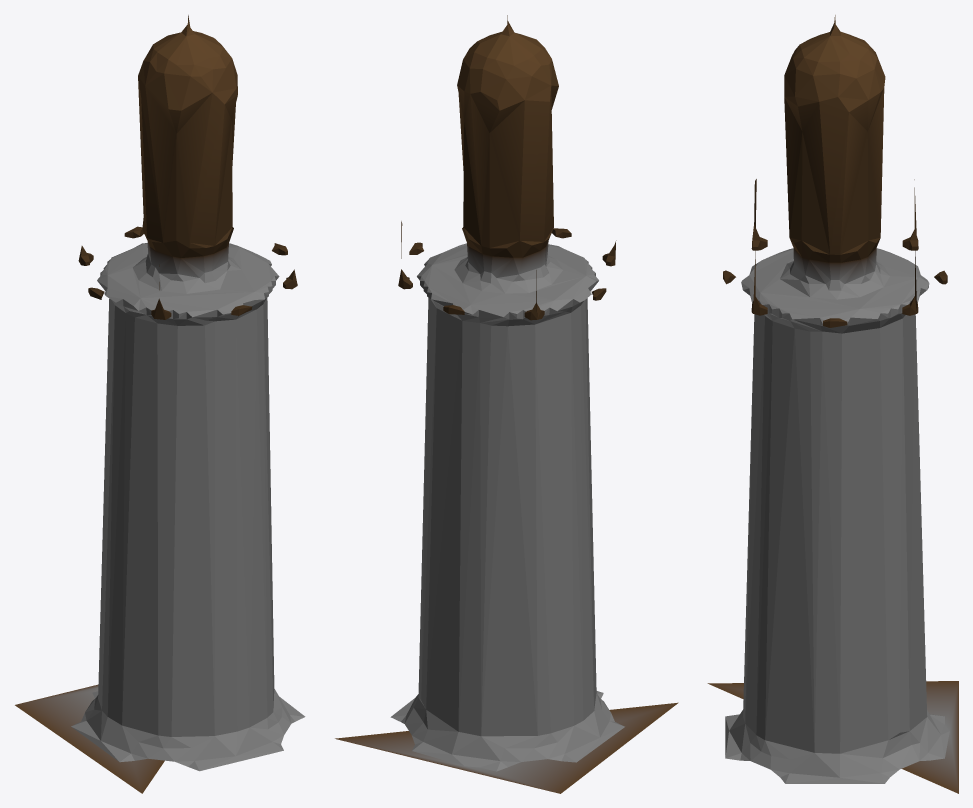
File: Lighthouses(1).glb
3 views of the same model, side by side, from view 1: azimuth 30°, elevation 25°; view 2: azimuth 150°, elevation 25°; view 3: azimuth 270°, elevation 25° (orthographic). The views are drawn at different scales.
Visible parts, largest first — view 1: Root; view 2: Root; view 3: Root.
Part boxes in pixels (x1=…): Root: x1=15, y1=15, x2=305, y2=793; Root: x1=335, y1=15, x2=678, y2=793; Root: x1=707, y1=15, x2=958, y2=793.
Size of the model in its own units: 2.45 by 7.31 by 2.31.
